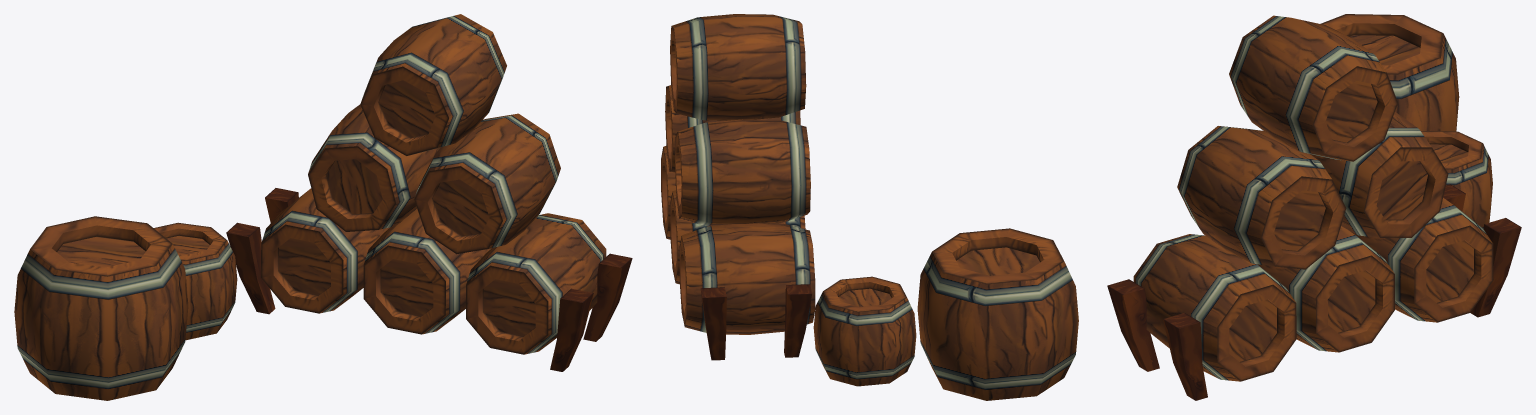
Rendered from Tonnen.FBX.
3 views of the same model, side by side, from view 1: azimuth 30°, elevation 25°; view 2: azimuth 150°, elevation 25°; view 3: azimuth 270°, elevation 25° (orthographic). The views are drawn at different scales.
Parts seen in each view (by area): view 1: Barrel_009, Barrel_007, Barrel_005, Barrel_004, Barrel_006, Barrel_003, Barrel_002, Barrel_010, Staak001, Staak002, Staak003, Staak; view 2: Barrel_009, Barrel_007, Barrel_006, Barrel_002, Barrel_010, Staak001, Staak, Barrel_005, Barrel_003, Barrel_004; view 3: Barrel_007, Barrel_005, Barrel_004, Barrel_006, Barrel_003, Barrel_002, Barrel_009, Barrel_010, Staak003, Staak002, Staak, Staak001.
Boxes of the visible parts, box(x1,y1,x2,y2) form: Barrel_009: box(14, 216, 188, 400); Barrel_007: box(360, 14, 506, 155); Barrel_005: box(414, 113, 560, 254); Barrel_004: box(466, 213, 606, 354); Barrel_006: box(308, 104, 440, 231); Barrel_003: box(363, 208, 491, 334); Barrel_002: box(261, 188, 390, 313); Barrel_010: box(154, 222, 237, 340); Staak001: box(226, 222, 275, 314); Staak002: box(583, 253, 632, 341); Staak003: box(550, 288, 593, 371); Staak: box(265, 188, 298, 222); Barrel_009: box(917, 228, 1078, 400); Barrel_007: box(670, 14, 806, 120); Barrel_006: box(674, 119, 810, 225); Barrel_002: box(679, 223, 815, 334); Barrel_010: box(813, 276, 916, 386); Staak001: box(784, 284, 811, 357); Staak: box(700, 287, 726, 360); Barrel_005: box(665, 85, 800, 172); Barrel_003: box(670, 190, 805, 284); Barrel_004: box(661, 146, 675, 239); Barrel_007: box(1229, 15, 1397, 161); Barrel_005: box(1177, 126, 1346, 269); Barrel_004: box(1133, 234, 1296, 381); Barrel_006: box(1310, 112, 1448, 237); Barrel_003: box(1257, 226, 1394, 352); Barrel_002: box(1351, 197, 1493, 322); Barrel_009: box(1320, 14, 1459, 131); Barrel_010: box(1421, 131, 1492, 228); Staak003: box(1107, 279, 1159, 371); Staak002: box(1163, 313, 1207, 400); Staak: box(1470, 218, 1521, 317); Staak001: box(1443, 184, 1465, 211).
Bounding box in the file's own units: 4.3 × 2.35 × 2.84.
Materials: 2 (2 with a texture image).
